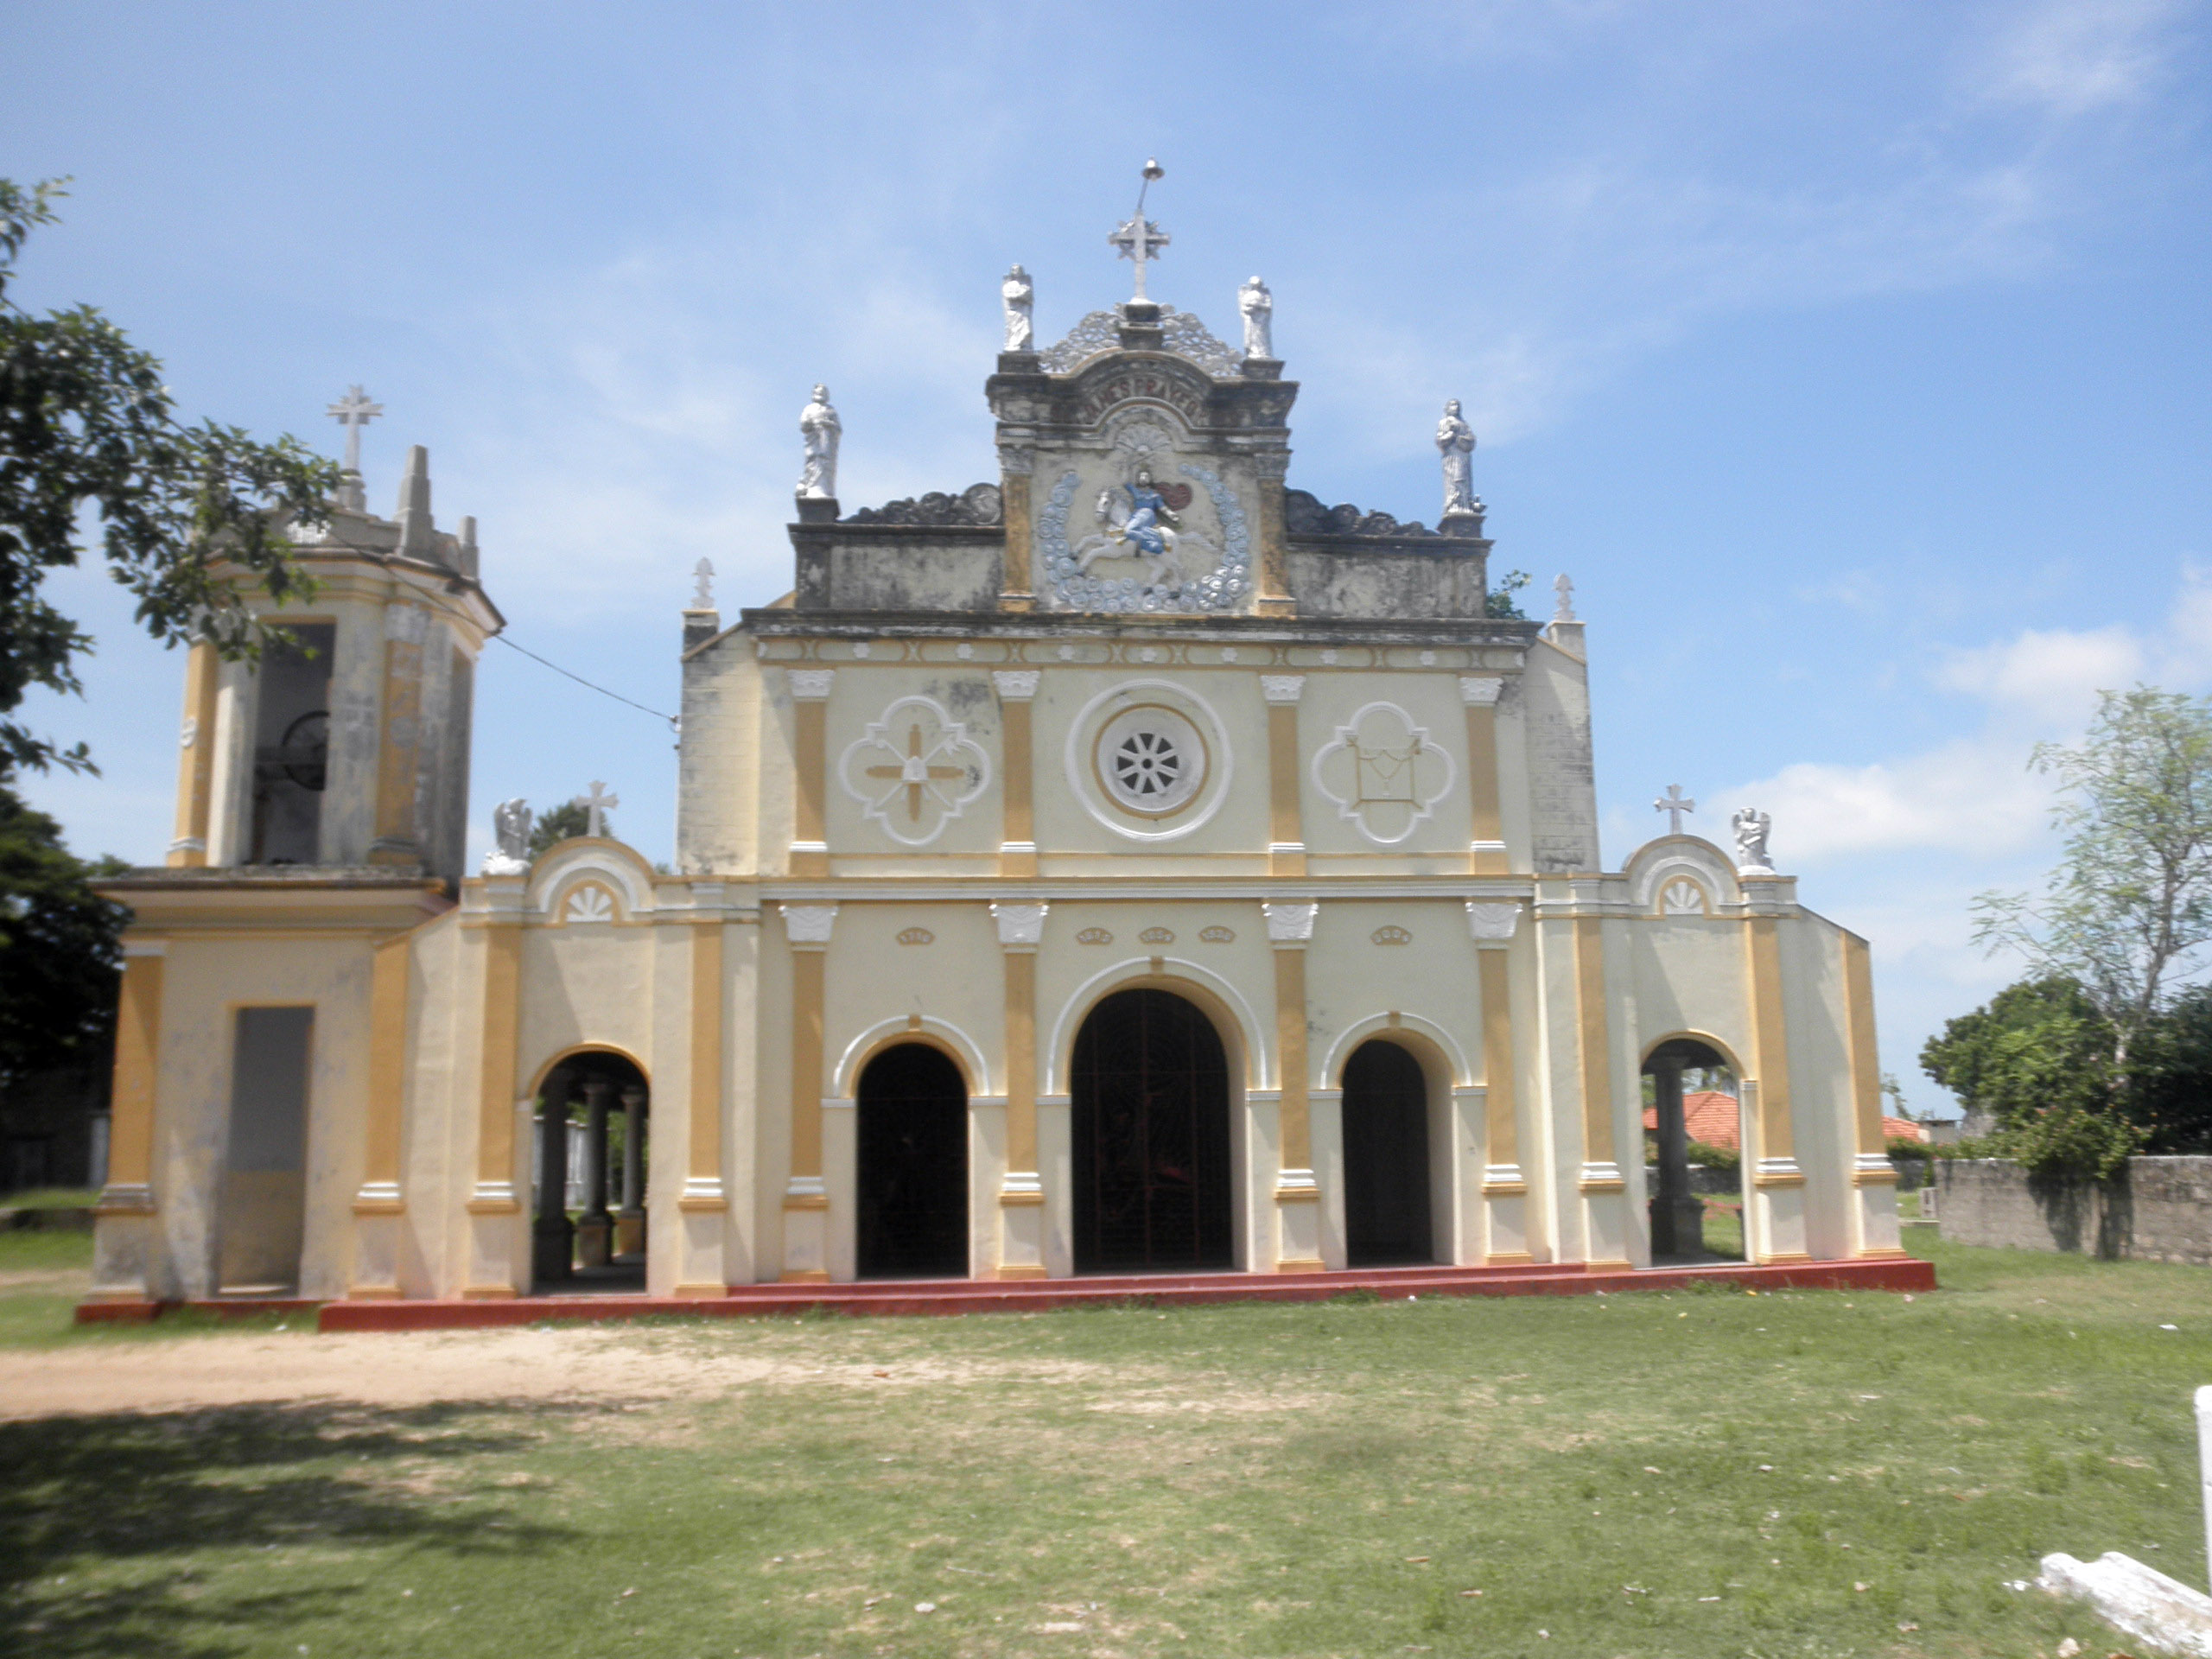Church: (85, 164, 1839, 1302)
